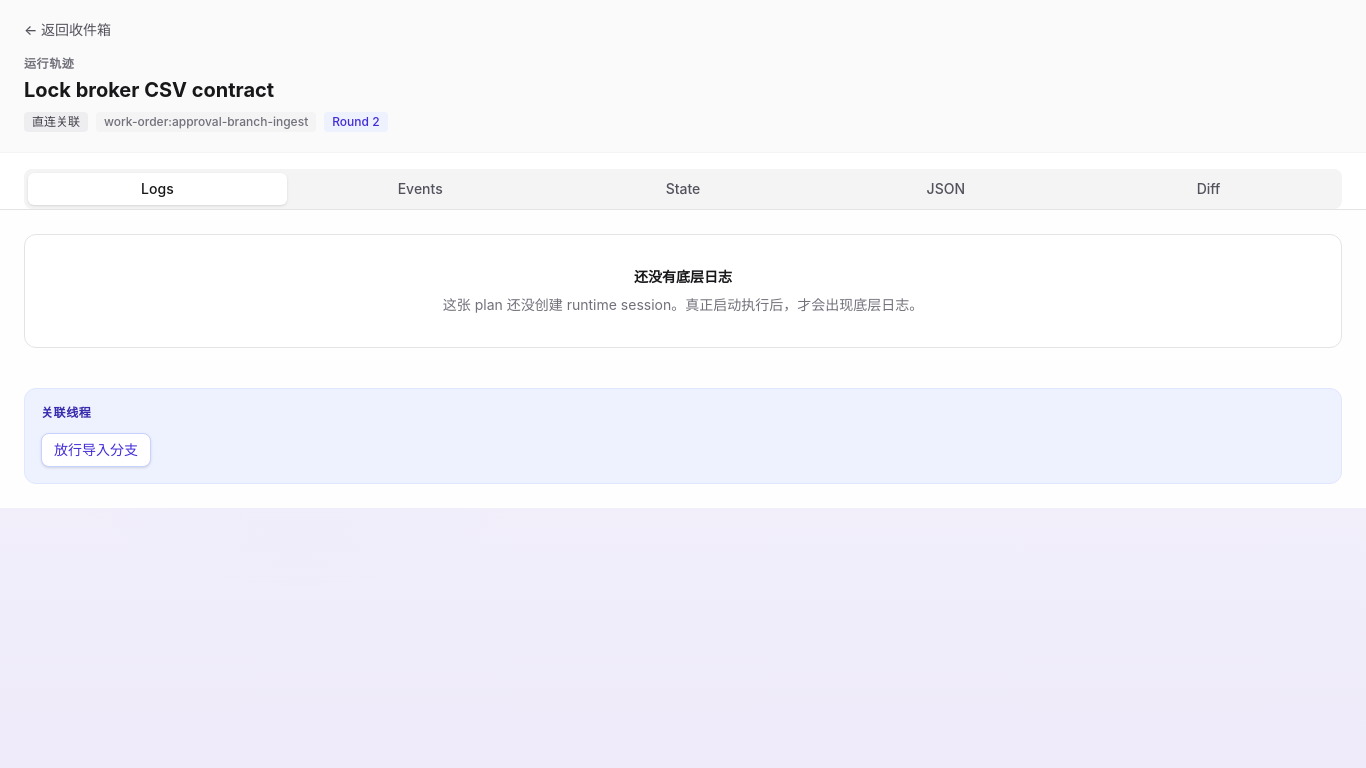
PlanTraceWorkspace › keeps tabs usable when the events tab is in empty-state mode
This screenshot has width=1366, height=768.
Step 1. Click the tab "Events" → [420, 189], box [291,173,550,205]
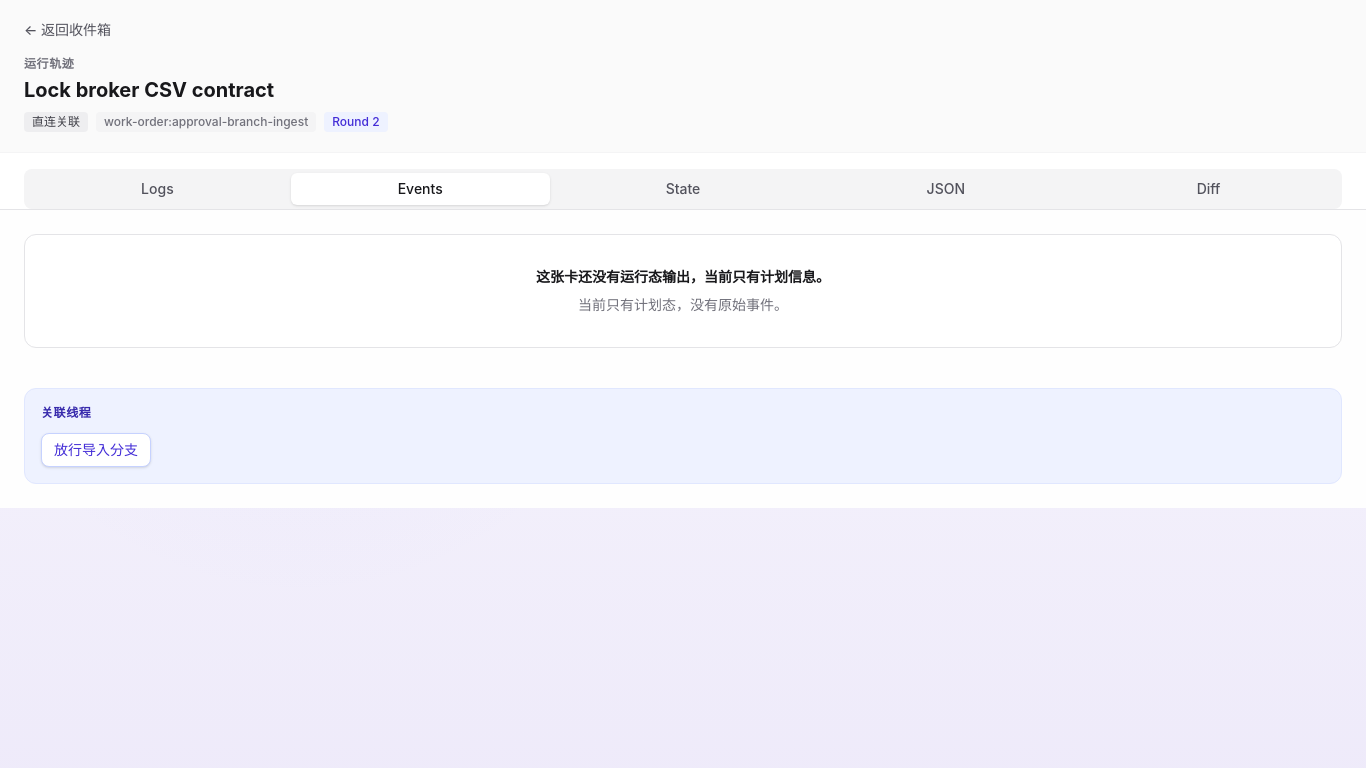
Check: the heading "这张卡还没有运行态输出，当前只有计划信息。" is shown, box [536,267,830,287]
Step 2. Click the tab "State" → [683, 189], box [554,173,812,205]
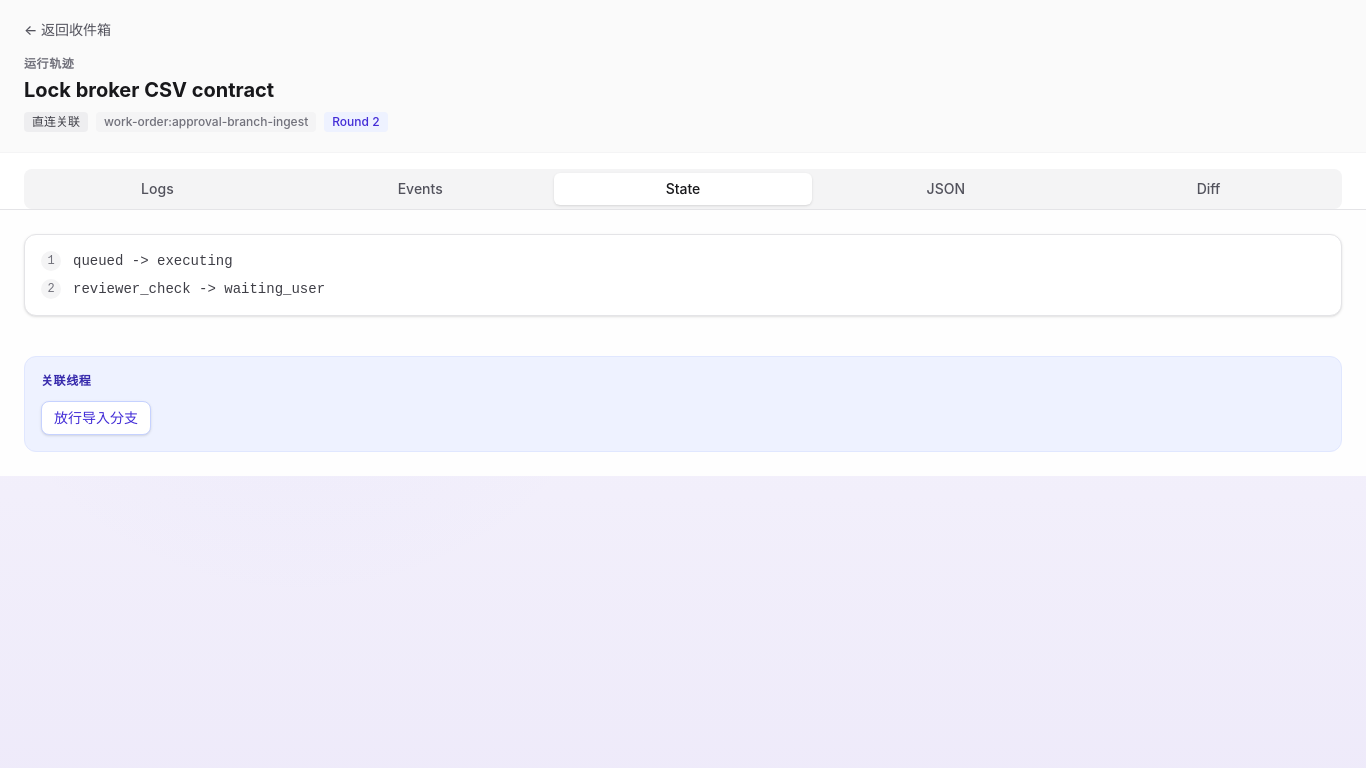
Check: the panel named "state" is shown, box [24,234,1342,316]
Step 3. Click the tab "JSON" → [946, 189], box [816,173,1075,205]
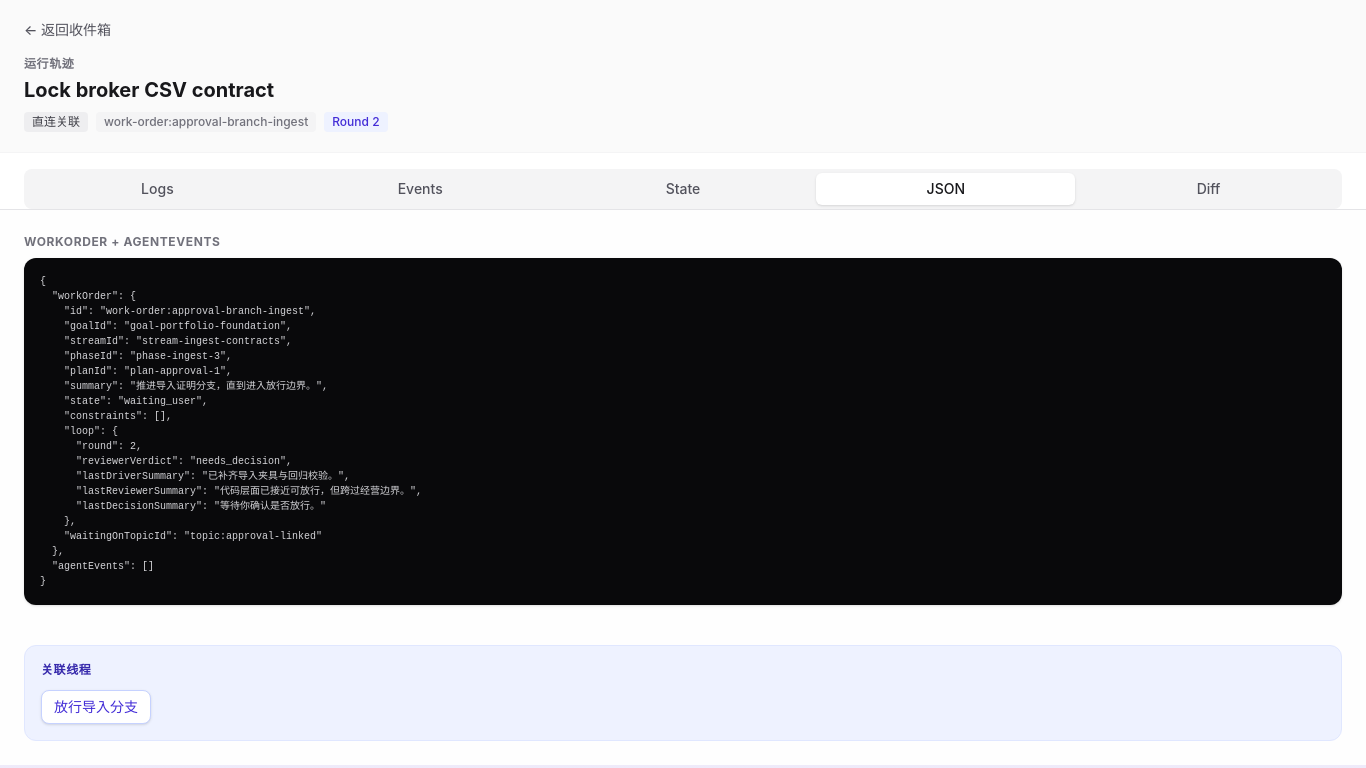
Check: the panel named "json" is shown, box [24,234,1342,605]
